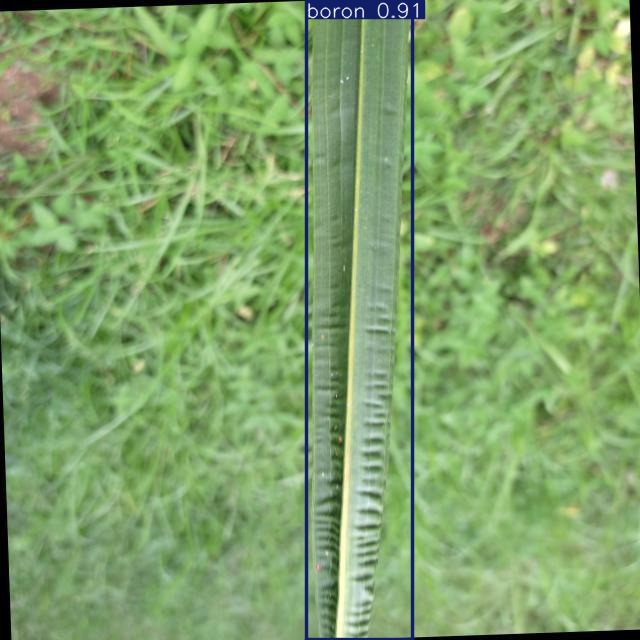nitrogen: (307, 0, 412, 640)
